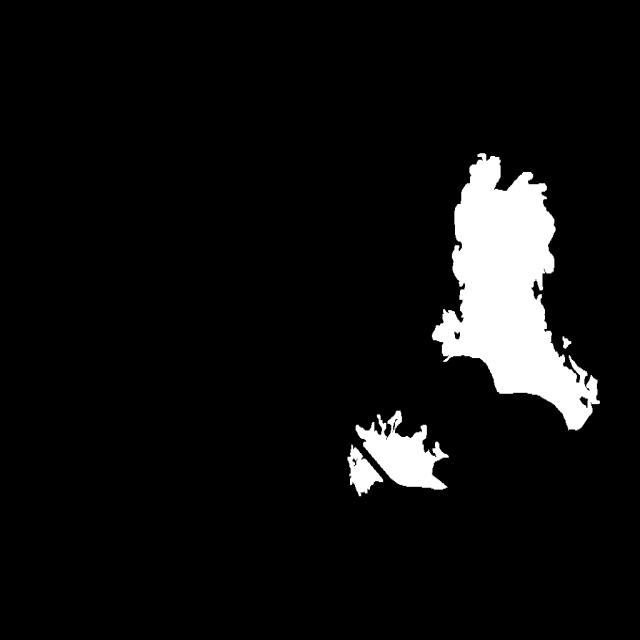fire: (398, 128, 628, 460), (294, 399, 470, 505)
